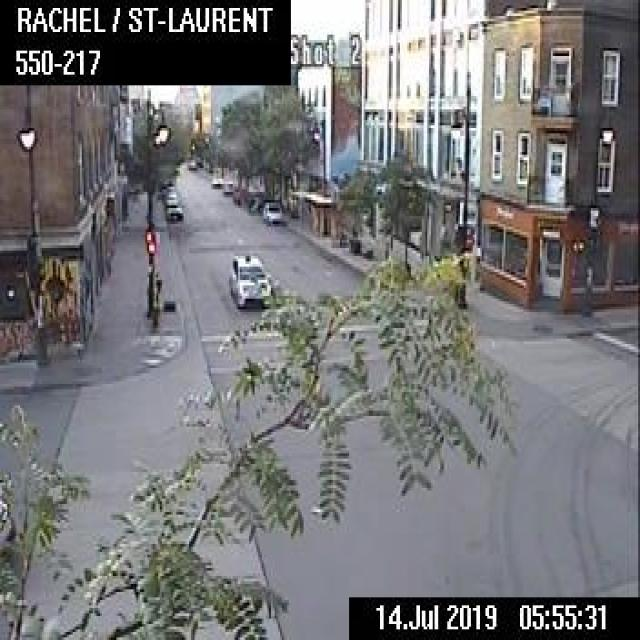vehicle: (228, 253, 269, 306), (262, 198, 282, 224), (164, 202, 182, 220), (163, 188, 176, 204), (210, 172, 222, 185), (221, 181, 233, 192), (186, 157, 196, 168)
